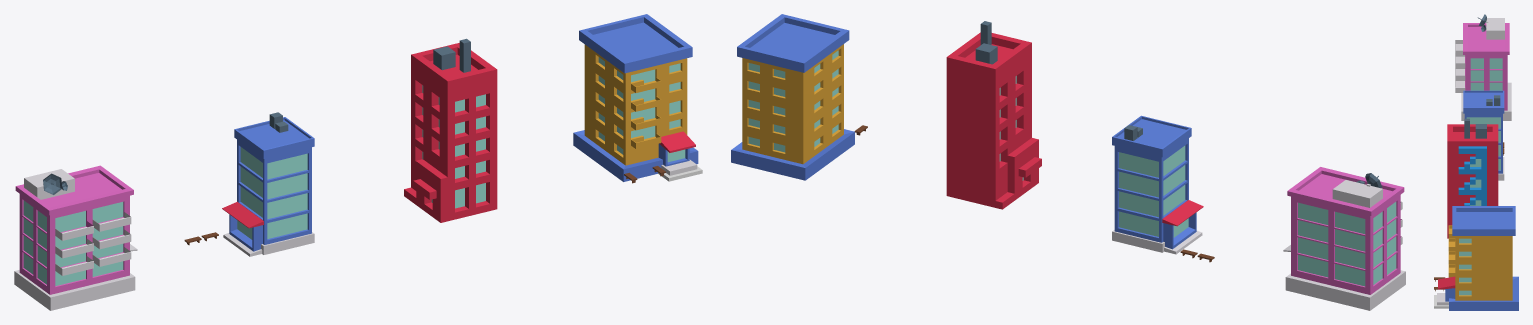
The model's file is Buildings1.fbx.
3 renders of one model, left to right at view 1: azimuth 30°, elevation 25°; view 2: azimuth 150°, elevation 25°; view 3: azimuth 270°, elevation 25°, orthographic. The views are drawn at different scales.
Parts seen in each view (by area): view 1: Building_001; view 2: Building_001; view 3: Building_001.
Boxes of the visible parts, box(x1,y1,x2,y2) form: Building_001: box(14, 14, 702, 310); Building_001: box(731, 14, 1405, 310); Building_001: box(1434, 14, 1518, 310).
Bounding box in the file's own units: 913 × 1380 × 5526.
